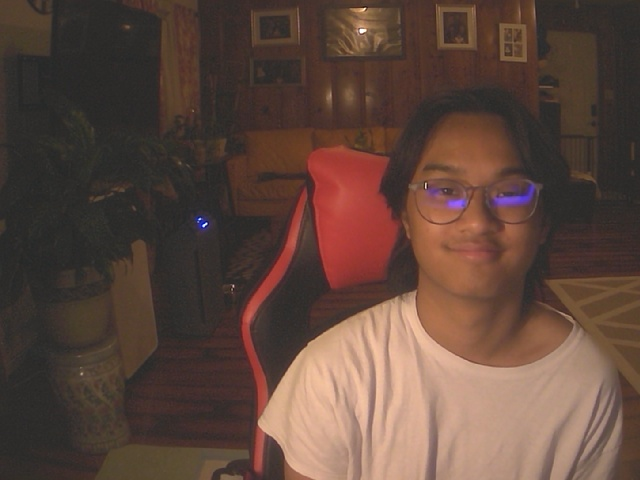happy: (377, 83, 569, 298)
